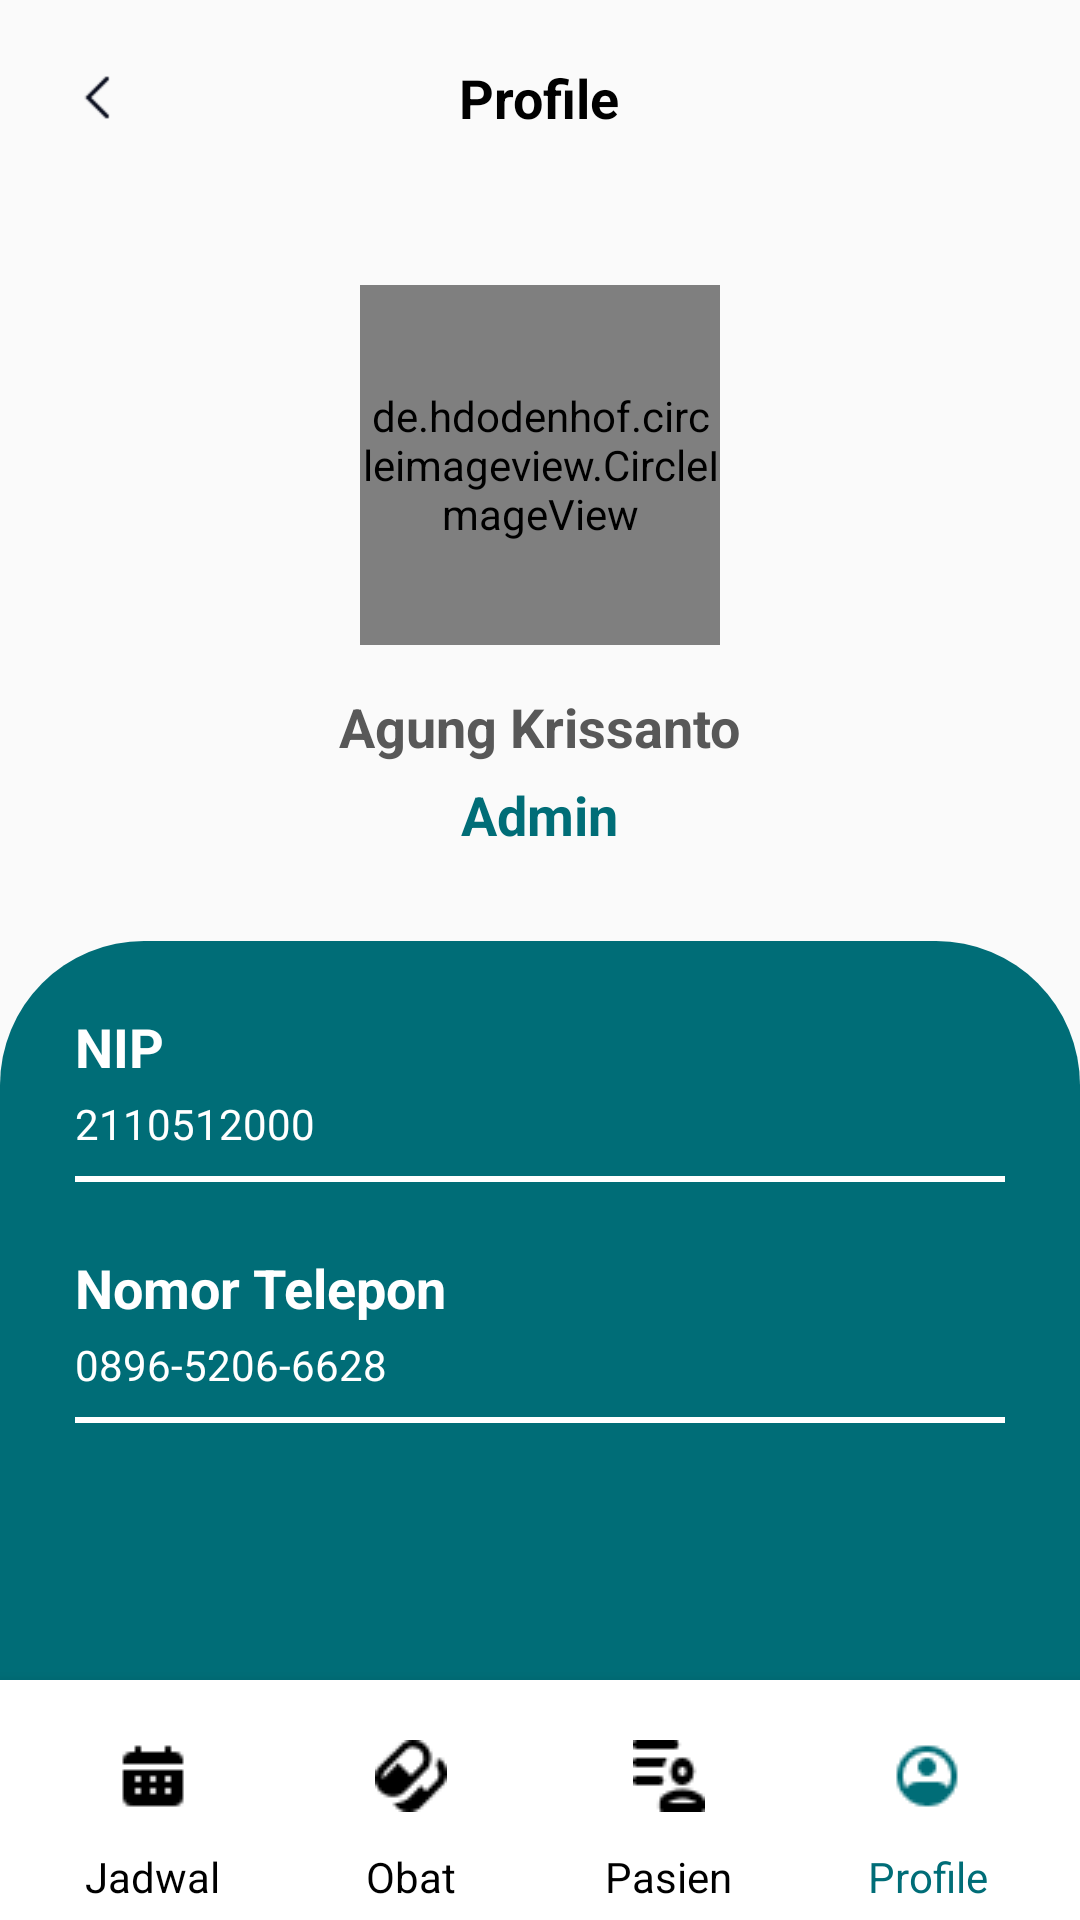

Icons on this 1080*1920 Android screen, each with its box as {"x1": x1, "y1": y1, "x2": x2, "y2": y2}:
back: {"x1": 85, "y1": 76, "x2": 109, "y2": 119}
